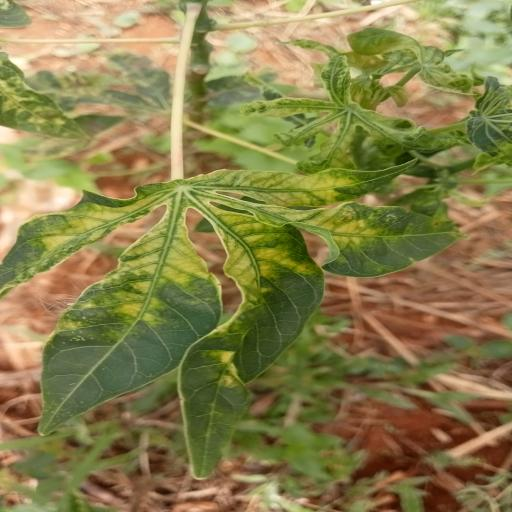Cassava_Mosaic: (0, 161, 465, 482)
